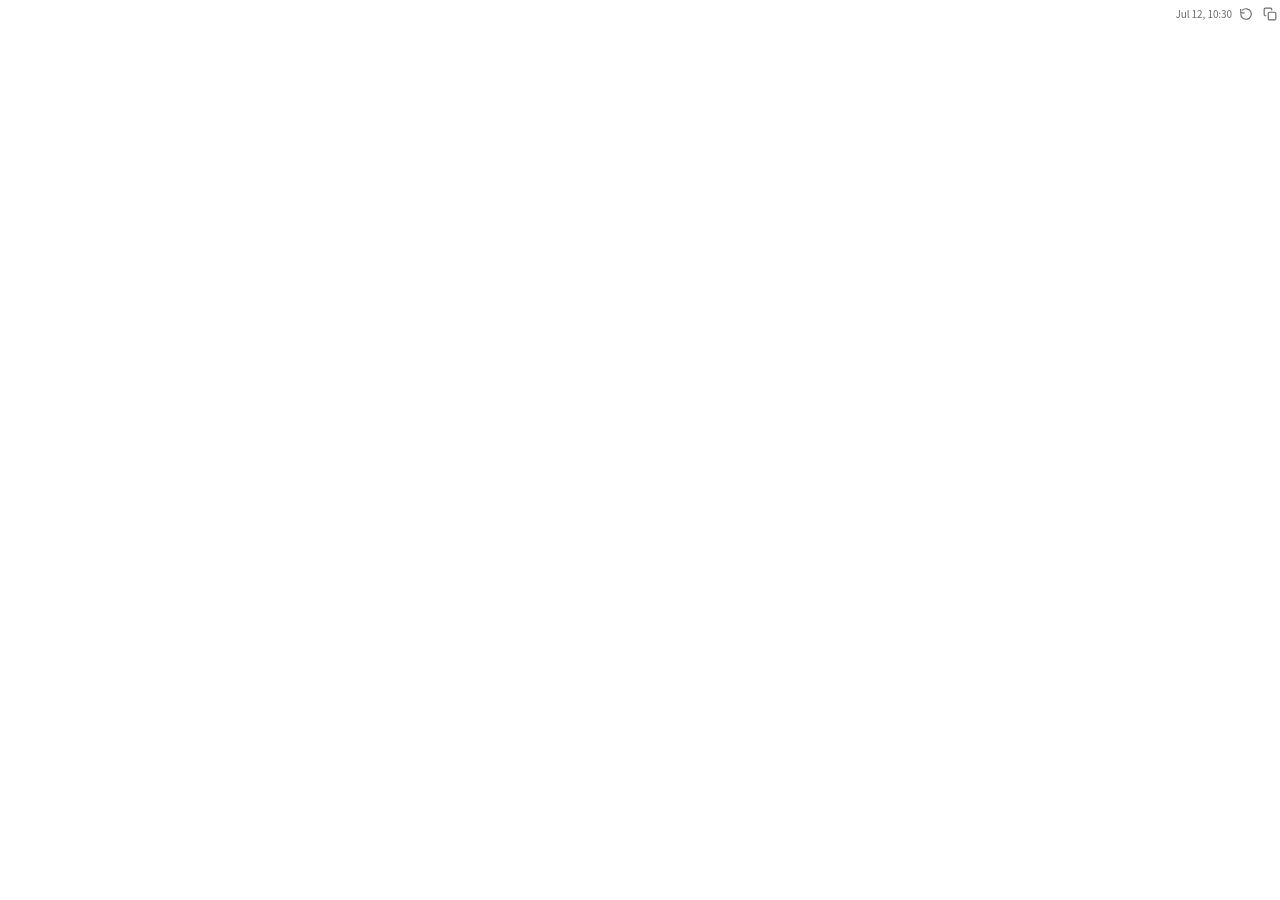
it: MessageActions › localizes the Rewind confirmation dialog in Simplified Chinese
Later steps or results of the test are not shown.
Click the button named "回退" at (1246, 14), box [1236, 4, 1256, 24]
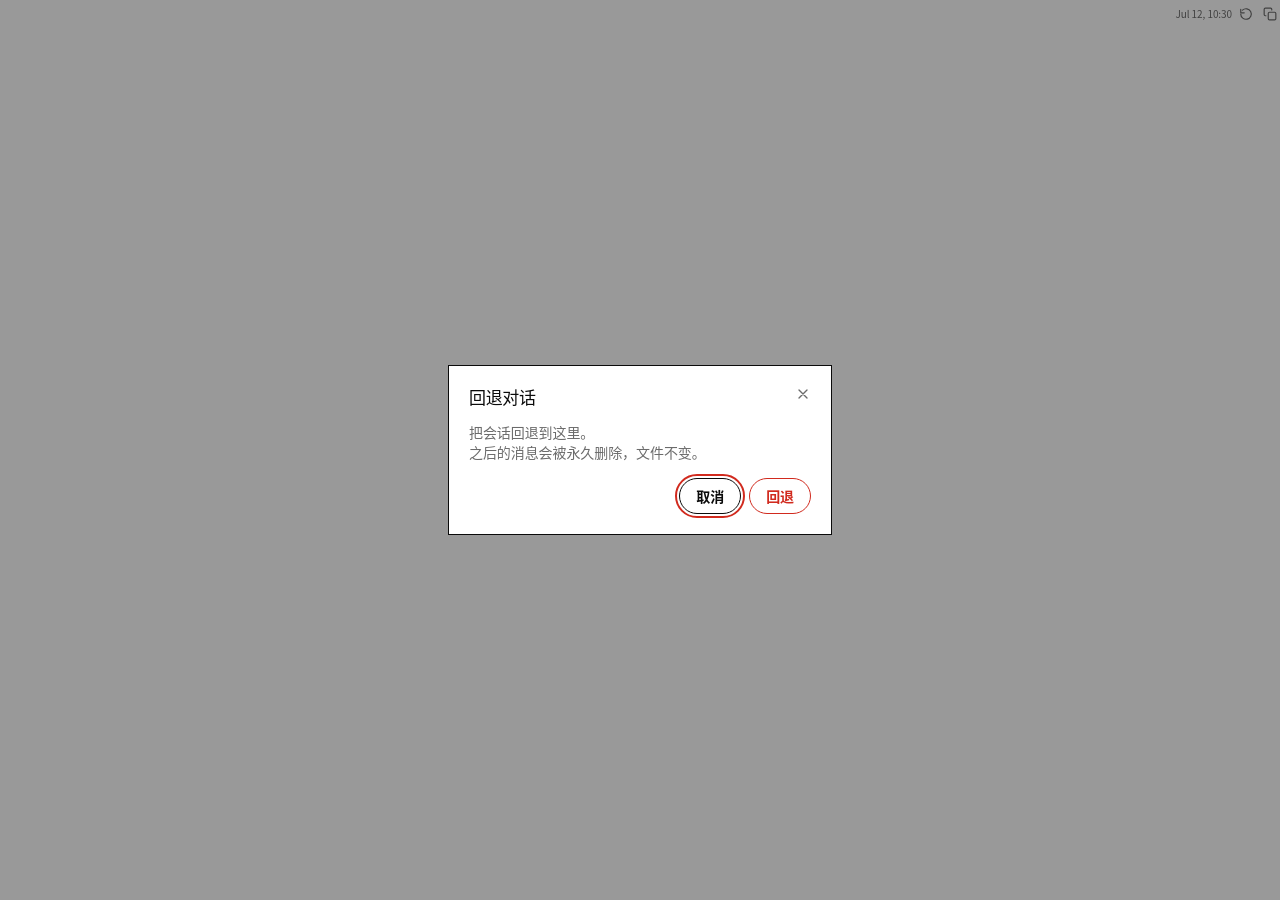
Expected: the dialog shows "回退对话", [469, 384, 536, 409]
Expected: the dialog shows "把会话回退到这里。", [469, 422, 706, 462]
Expected: the dialog shows "之后的消息会被永久删除，文件不变。", [469, 422, 706, 462]
Click the button "回退" at (780, 496), box [749, 478, 811, 514]
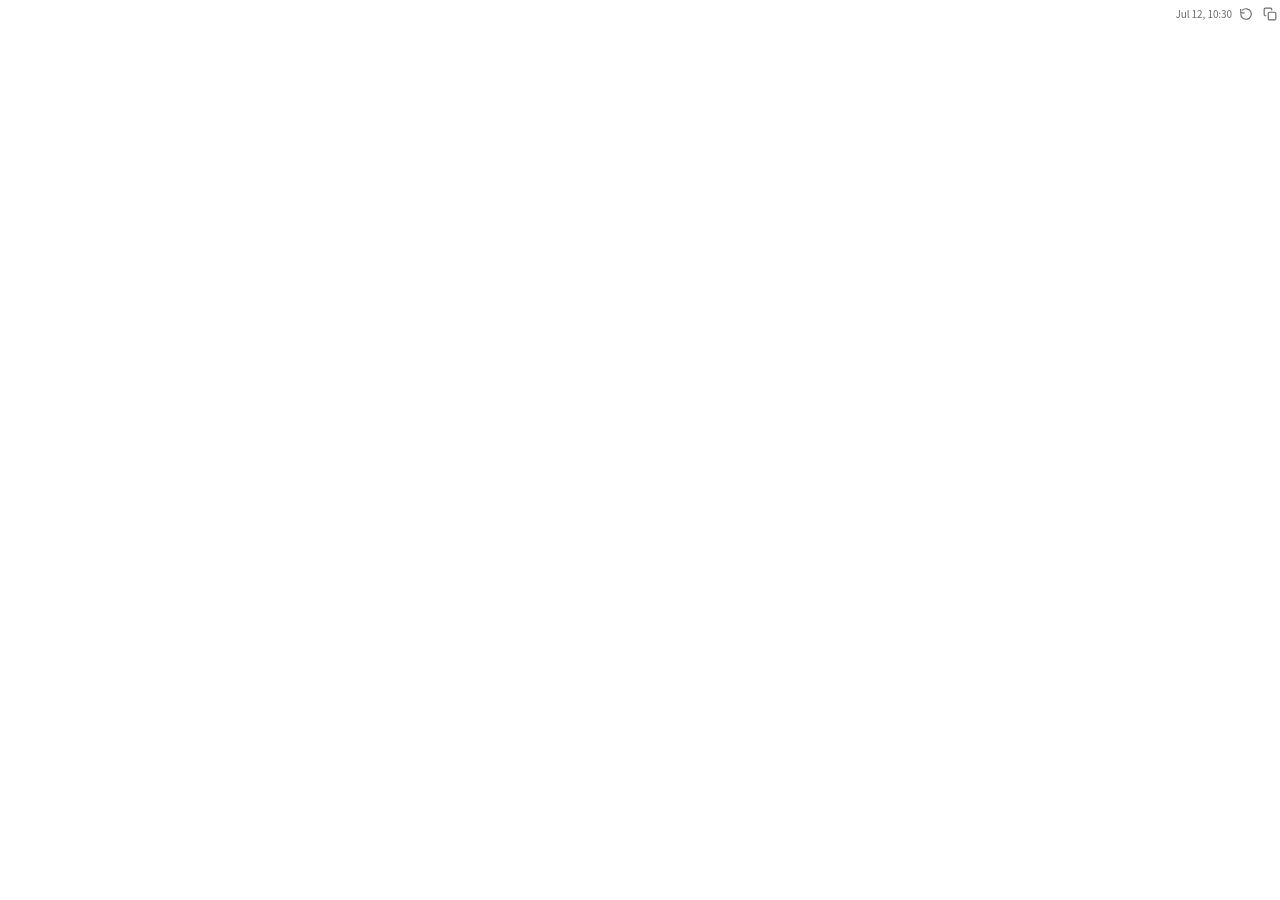
Expected: the dialog is gone
